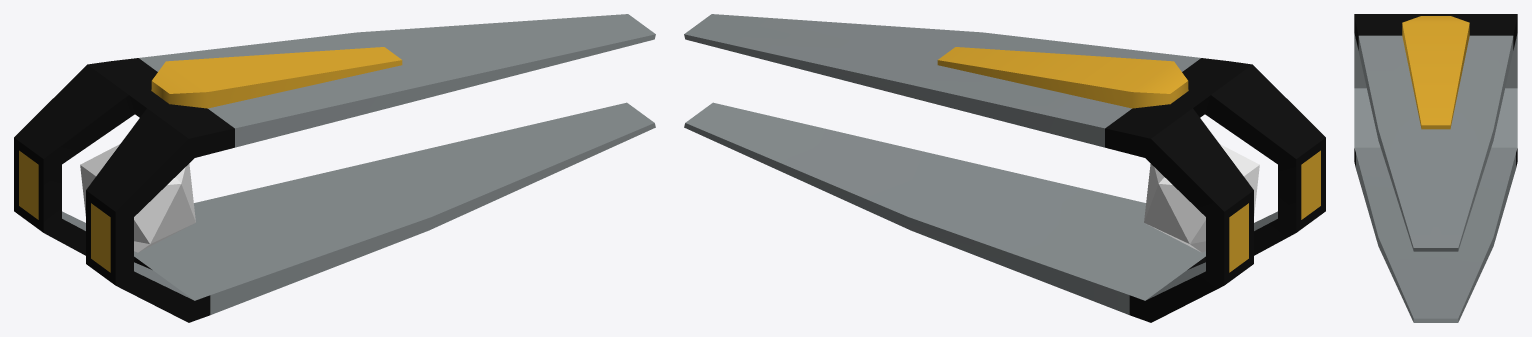
3 renders of one model, left to right at view 1: azimuth 30°, elevation 25°; view 2: azimuth 150°, elevation 25°; view 3: azimuth 270°, elevation 25°, orthographic. The views are drawn at different scales.
Parts seen in each view (by area): view 1: 平面, 棱角球; view 2: 平面, 棱角球; view 3: 平面.
Boxes of the visible parts, left/top/right/bottom form: 平面: left=14, top=14, right=655, bottom=322; 棱角球: left=80, top=144, right=195, bottom=252; 平面: left=684, top=14, right=1325, bottom=322; 棱角球: left=1144, top=144, right=1259, bottom=252; 平面: left=1354, top=14, right=1517, bottom=322.
Size of the model in its own units: 656 by 214 by 200.
